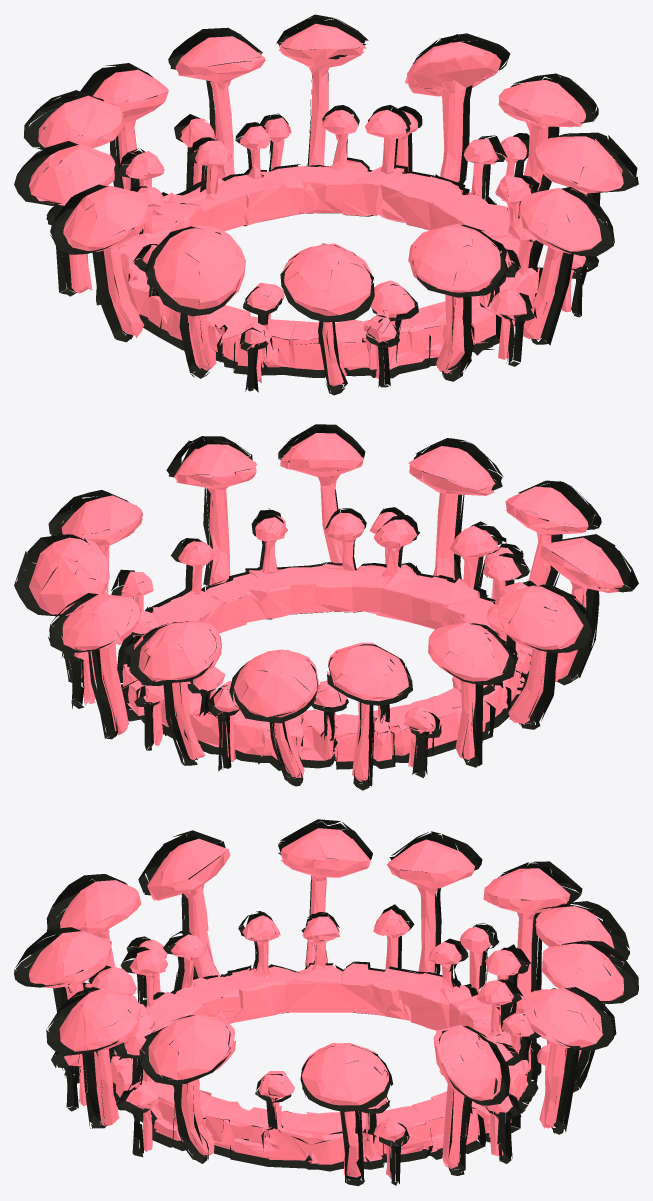
Rendered from df_v2_glowing_mushroom_ring_hero_c_a.glb.
The picture shows the model from 3 angles, top to bottom: view 1: azimuth 30°, elevation 25°; view 2: azimuth 150°, elevation 25°; view 3: azimuth 270°, elevation 25°; orthographic projection. The views are drawn at different scales.
Parts seen in each view (by area): view 1: glowing_mushroom_ring_hero_c_mesh_01, glowing_mushroom_ring_hero_c_mesh_01_ink_outline; view 2: glowing_mushroom_ring_hero_c_mesh_01, glowing_mushroom_ring_hero_c_mesh_01_ink_outline; view 3: glowing_mushroom_ring_hero_c_mesh_01, glowing_mushroom_ring_hero_c_mesh_01_ink_outline.
Boxes of the visible parts, x1,y1,x2,y2 form: glowing_mushroom_ring_hero_c_mesh_01: (29, 23, 623, 386); glowing_mushroom_ring_hero_c_mesh_01_ink_outline: (14, 14, 638, 395); glowing_mushroom_ring_hero_c_mesh_01: (29, 433, 623, 781); glowing_mushroom_ring_hero_c_mesh_01_ink_outline: (14, 424, 638, 790); glowing_mushroom_ring_hero_c_mesh_01: (29, 828, 623, 1177); glowing_mushroom_ring_hero_c_mesh_01_ink_outline: (14, 819, 638, 1186).
Size of the model in its own units: 2.3 by 0.6397 by 2.31.
